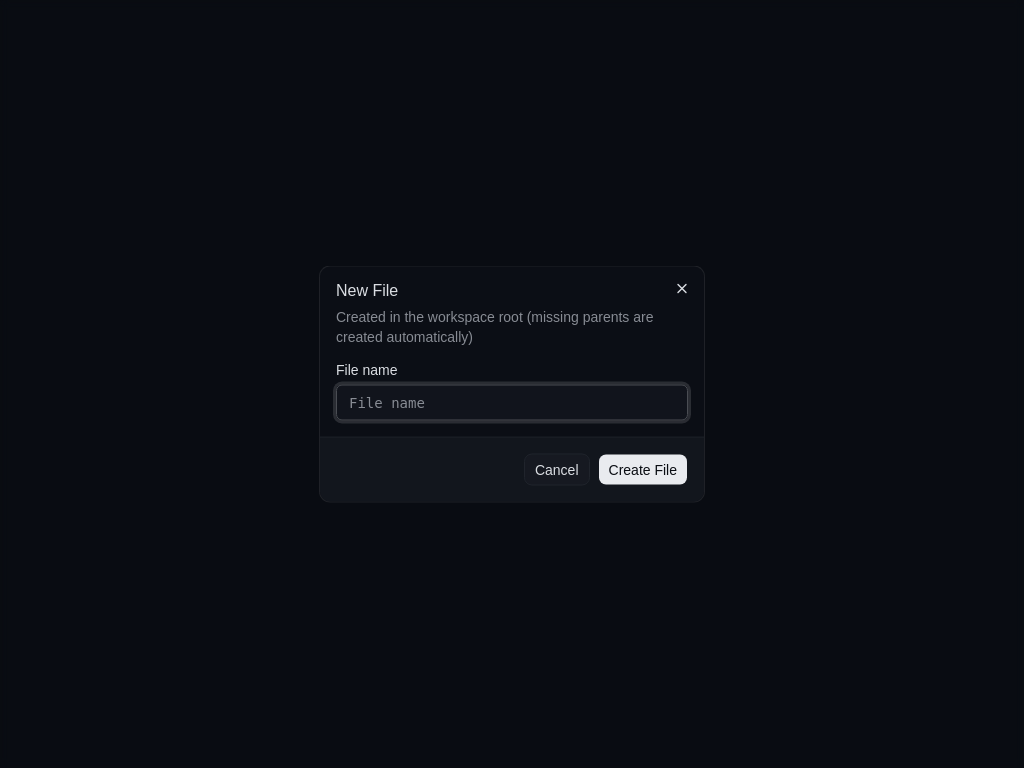
FileTree create flow (empty workspace) › createFile failure surfaces the server message inside the dialog
Type "test.ts" into the field labelled "File name" at (512,402), box [336,384,688,420]
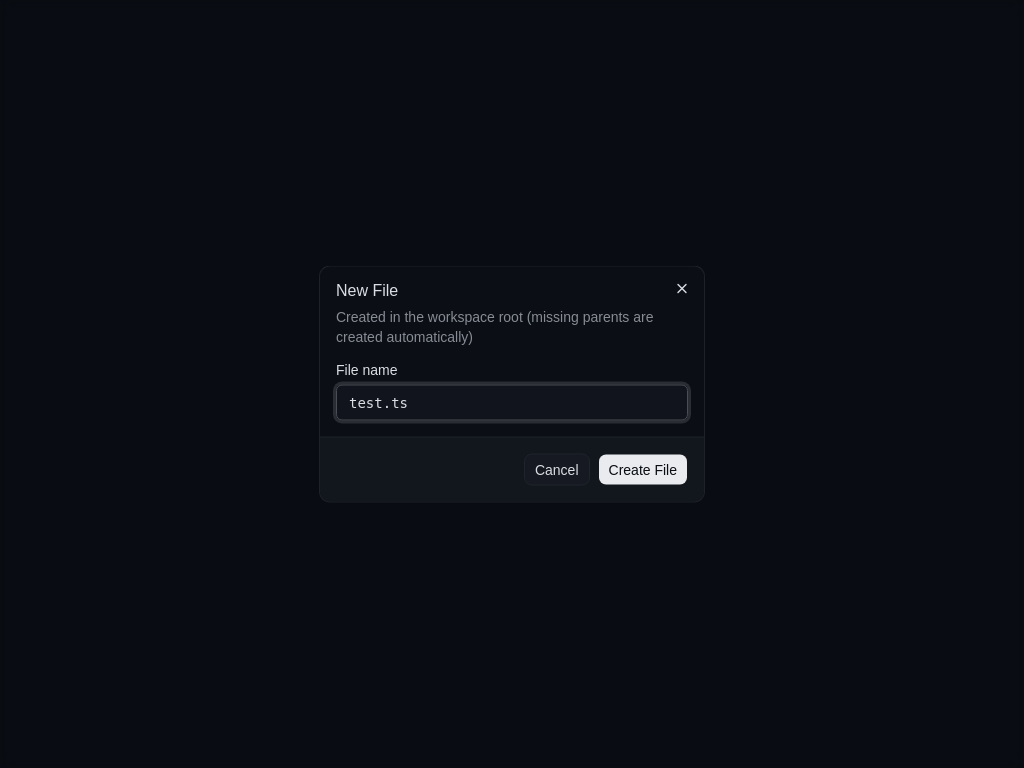
Click the button "Create File" at (643,470), box [598,454,688,486]
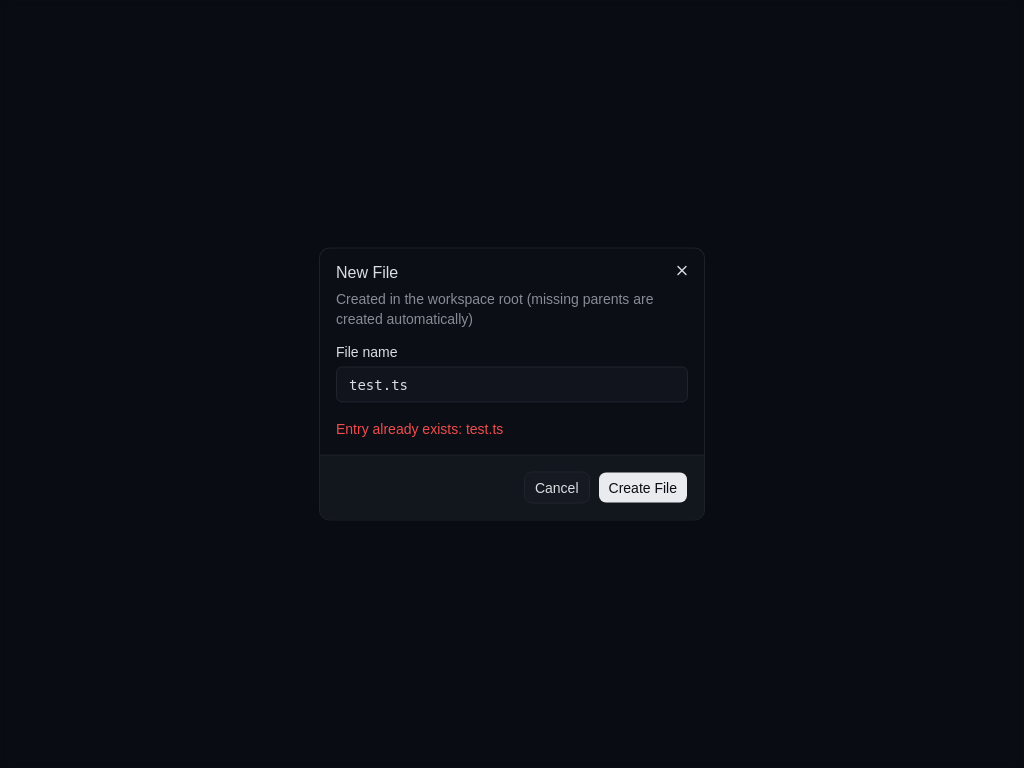
Now the text "Entry already exists: test.ts" is shown, box [336,420,503,436]
